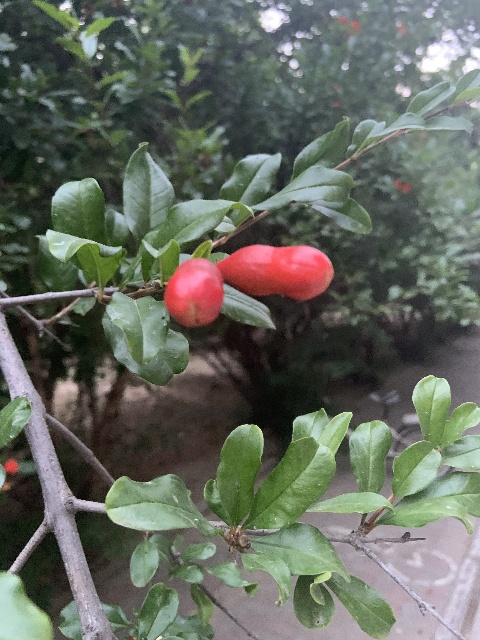bud: (216, 243, 334, 301), (164, 257, 224, 328)
